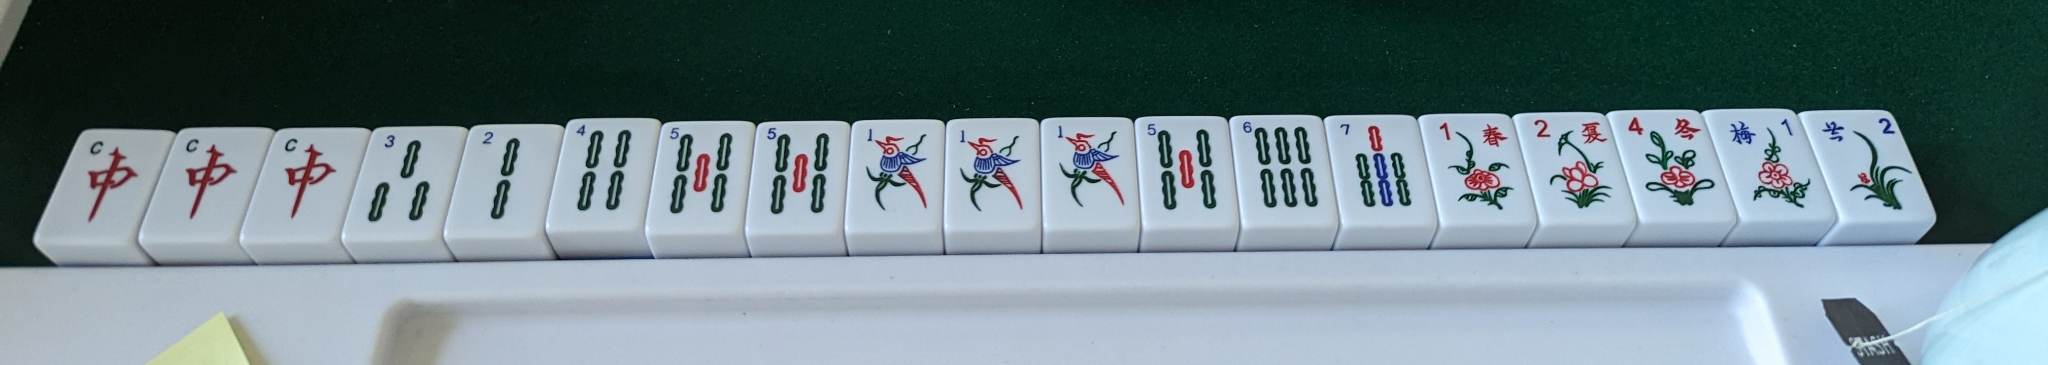bamboo-five: (1145, 120, 1219, 217), (761, 124, 835, 220), (664, 124, 737, 220)
bamboo-four: (569, 122, 639, 217)
bamboo-one: (952, 122, 1027, 218), (862, 123, 936, 218), (1051, 120, 1125, 217)
bamboo-seven: (1339, 120, 1413, 213)
bamboo-six: (1243, 116, 1324, 213)
bamboo-three: (364, 130, 434, 225)
bamboo-two: (468, 130, 538, 225)
flower-blue_one: (1725, 111, 1816, 215)
flower-blue_two: (1821, 111, 1915, 215)
flower-red_four: (1625, 110, 1718, 213)
flower-red_one: (1435, 116, 1518, 215)
flower-red_two: (1529, 115, 1614, 215)
honor-red_dragon: (276, 136, 340, 228), (178, 133, 240, 226), (82, 136, 138, 224)
